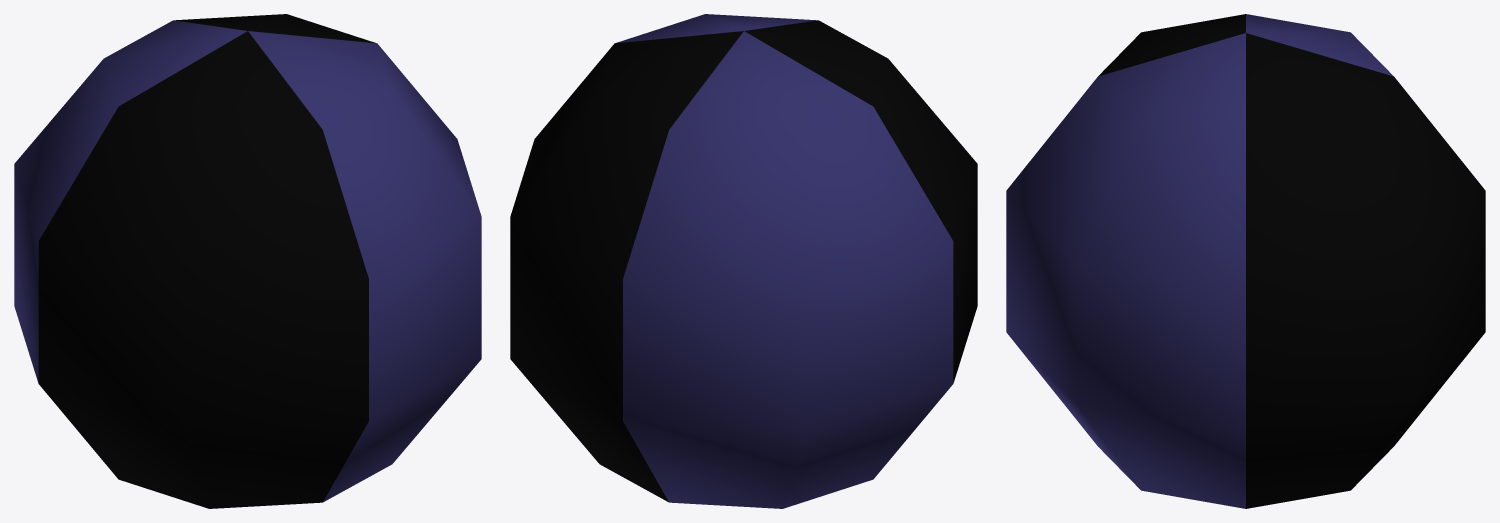
The model's file is ball.glb.
3 renders of one model, left to right at view 1: azimuth 30°, elevation 25°; view 2: azimuth 150°, elevation 25°; view 3: azimuth 270°, elevation 25°, orthographic.
Parts seen in each view (by area): view 1: Sphere; view 2: Sphere; view 3: Sphere.
Part boxes in pixels (bbox=[...]): Sphere: bbox=[14, 14, 481, 508]; Sphere: bbox=[510, 14, 977, 508]; Sphere: bbox=[1006, 14, 1485, 508].
Bounding box in the file's own units: 0.2853 × 0.3 × 0.2853.
